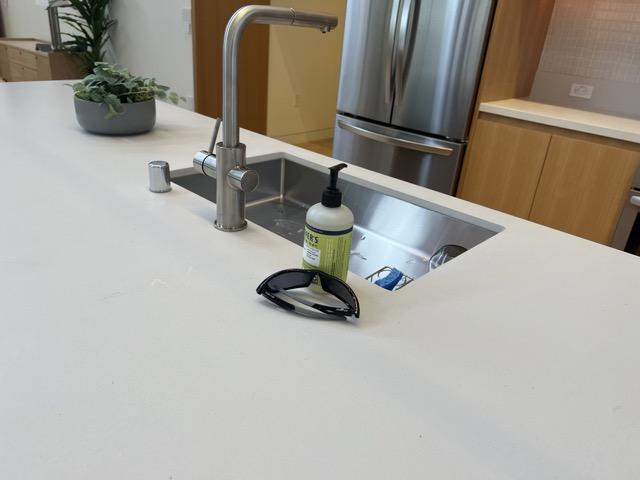Sunglasses: (256, 268, 360, 324)
